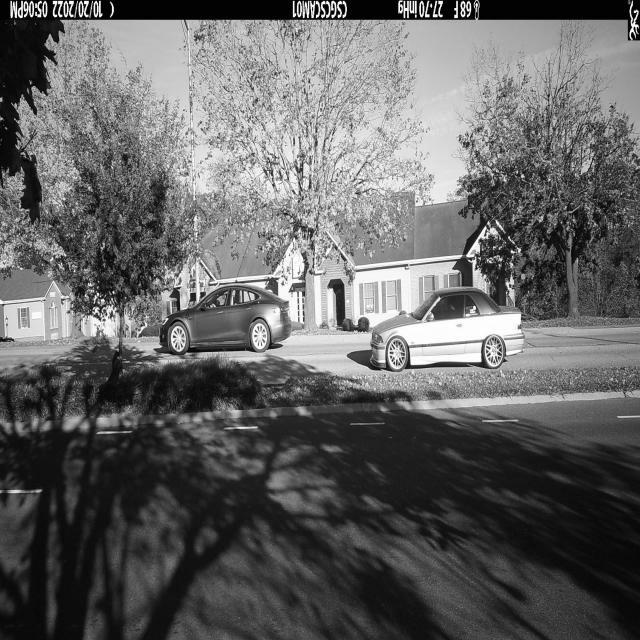Sedan: (370, 287, 526, 373), (160, 284, 292, 356)
